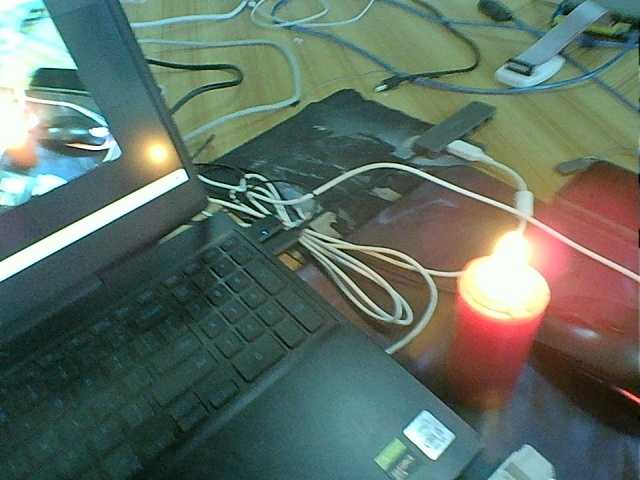candle: (455, 254, 550, 420), (6, 141, 53, 180)
fire: (472, 224, 547, 303), (1, 109, 36, 144), (142, 144, 177, 169)
